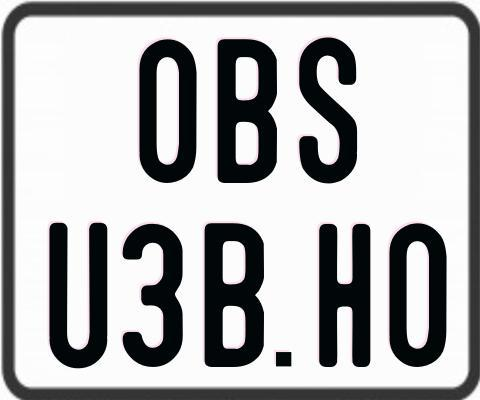0: (386, 222, 448, 366), (138, 39, 197, 185)
3: (120, 222, 181, 370)
B: (205, 221, 270, 371), (218, 37, 277, 181)
H: (319, 223, 376, 370)
S: (299, 34, 359, 181)
U: (46, 222, 109, 367)
